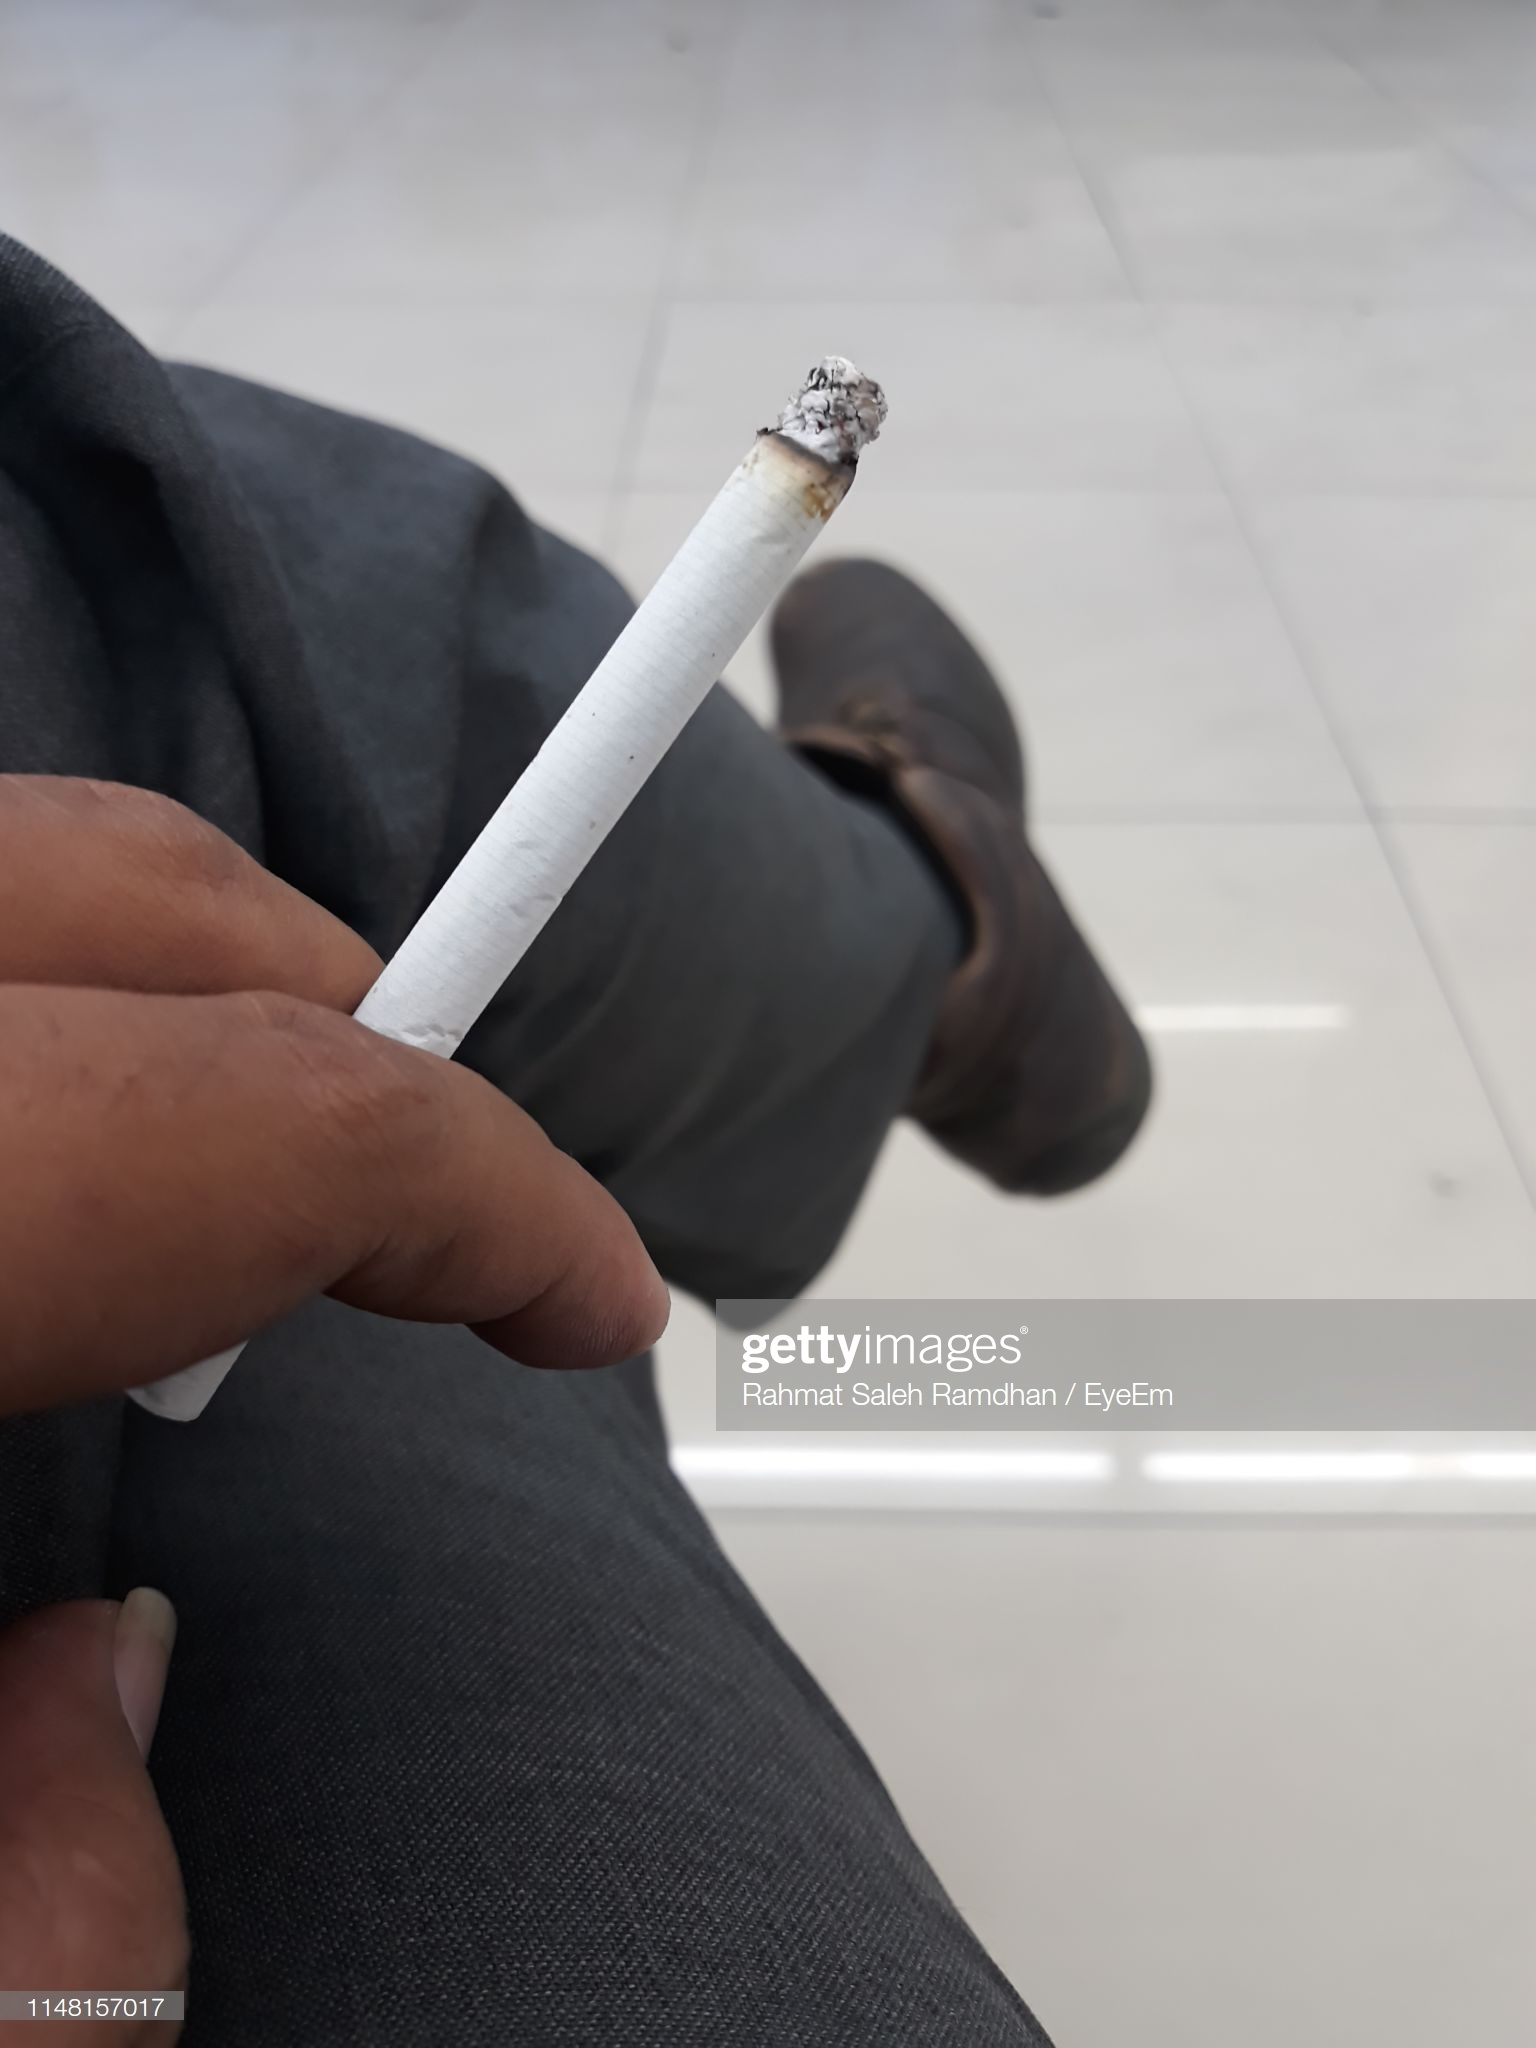sigaretta: (173, 355, 871, 1422)
